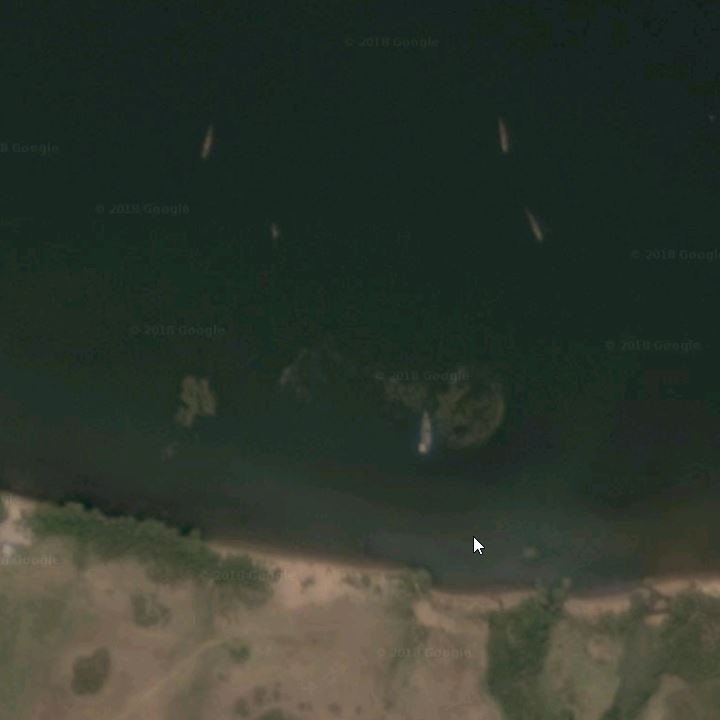boat: (518, 207, 549, 253), (413, 405, 435, 461), (493, 108, 514, 164), (200, 119, 216, 166)
